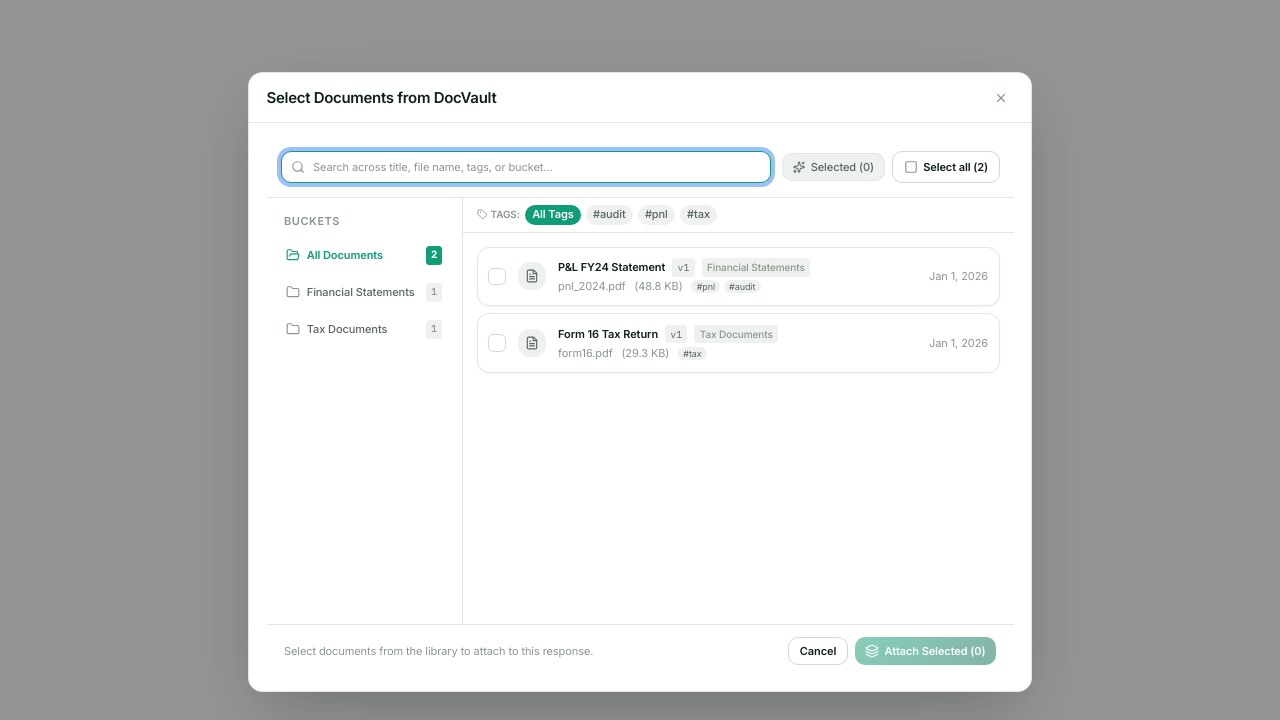
DocVaultPickerModal › supports selecting all visible documents and clearing selection
Expected: the text "P&L FY24 Statement" is shown, [558, 259, 665, 275]
Click the button "Select all (2)": {"x": 946, "y": 167} [892, 151, 1000, 182]
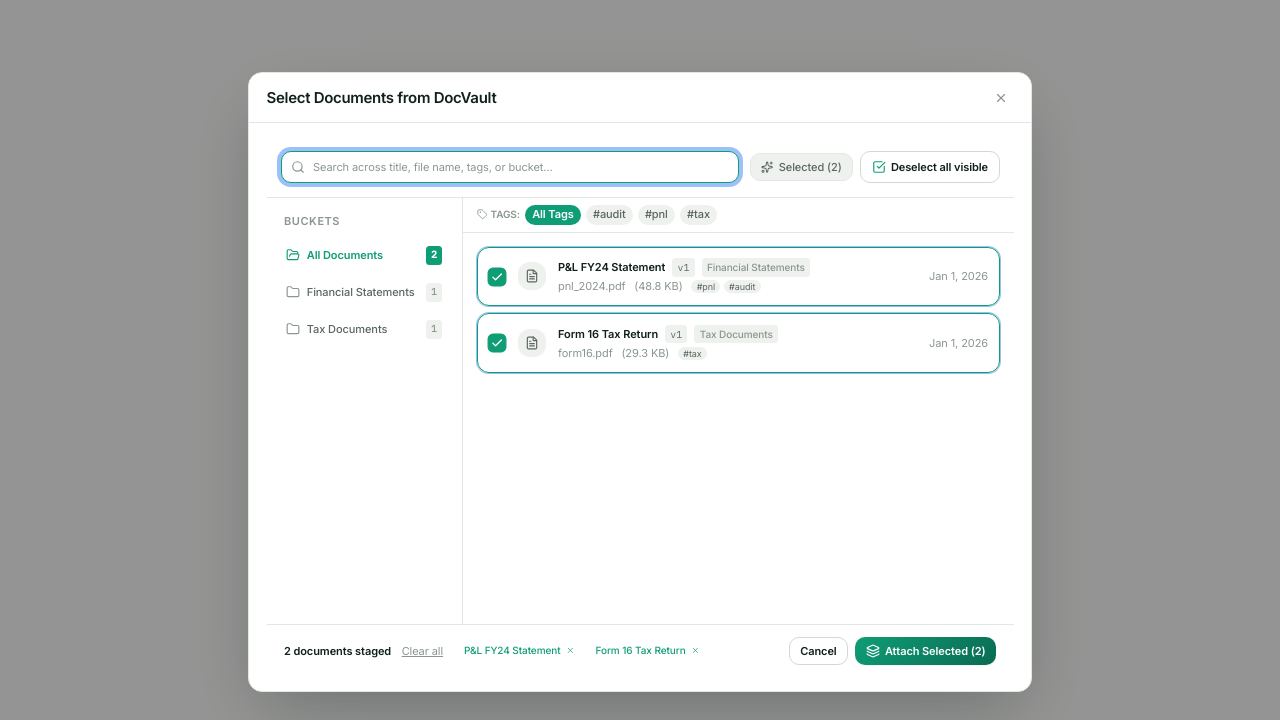
Expected: the button "Attach Selected (2)" is shown, [855, 637, 996, 665]
Expected: the text "2 documents staged" is shown, [284, 643, 391, 659]
Click the button "Clear all": {"x": 422, "y": 651} [402, 642, 443, 659]
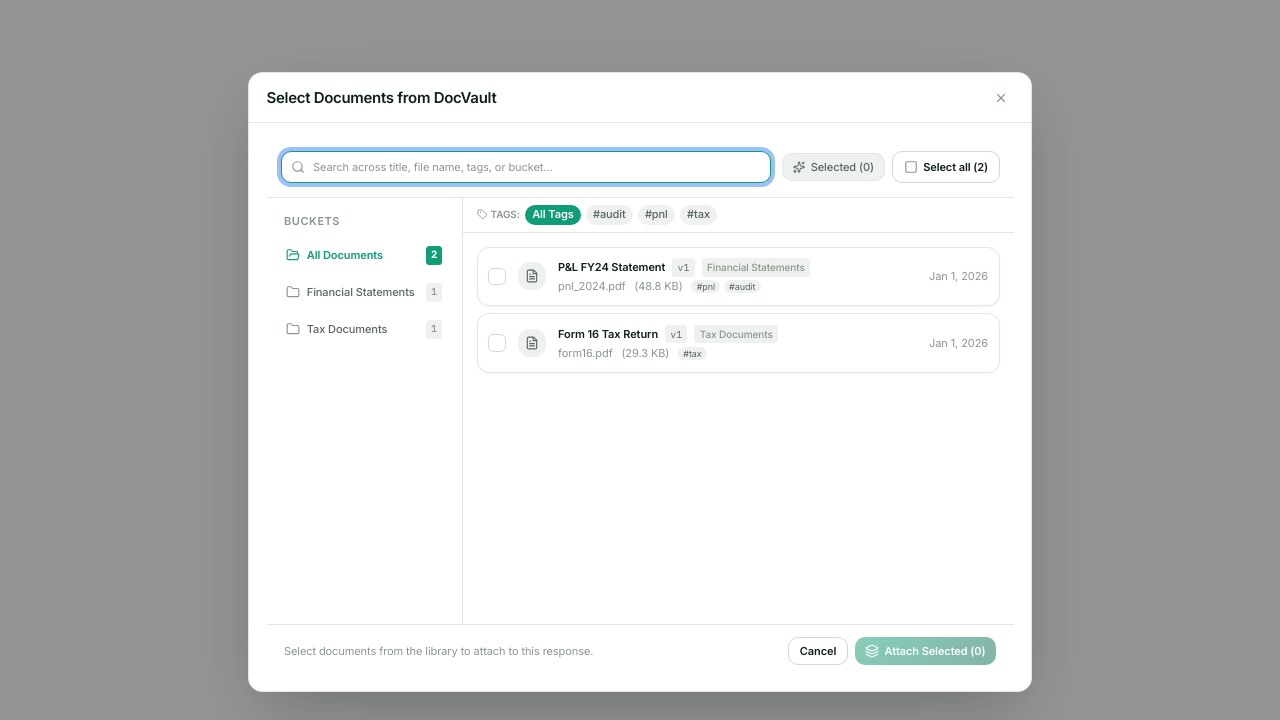
Expected: the text "2 documents staged" is gone
